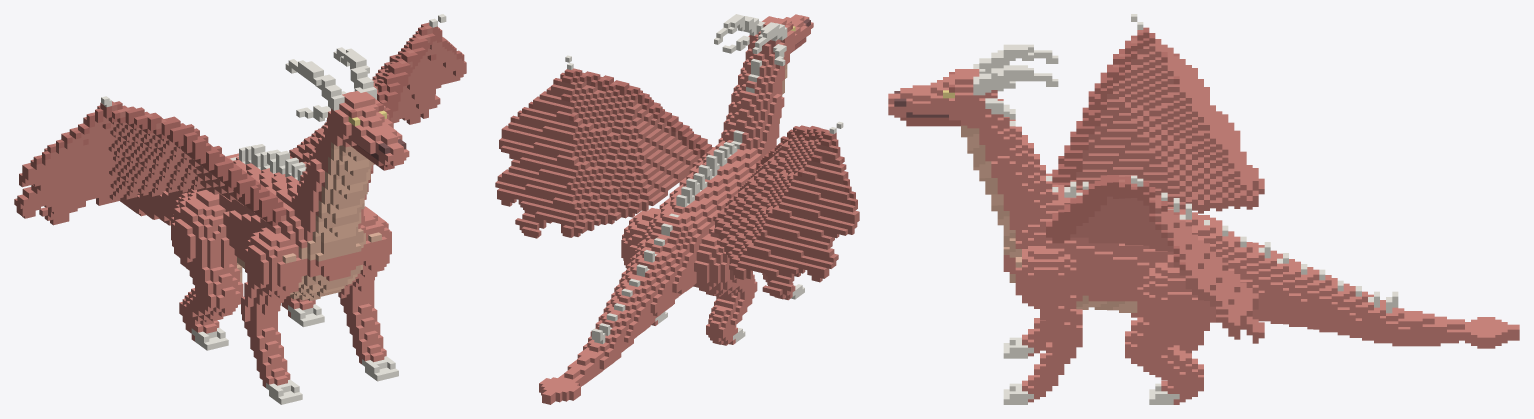
Rendered from dragon_wyrmling.glb.
The picture shows the model from 3 angles, left to right: view 1: azimuth 30°, elevation 25°; view 2: azimuth 150°, elevation 25°; view 3: azimuth 270°, elevation 25°; orthographic projection. The views are drawn at different scales.
Visible parts, largest first — view 1: item; view 2: item; view 3: item.
Part boxes in pixels (x1,y1,x2,y2): item: (14, 14, 466, 404); item: (495, 14, 859, 404); item: (888, 14, 1519, 404).
Bounding box in the file's own units: 82 × 58 × 104.
